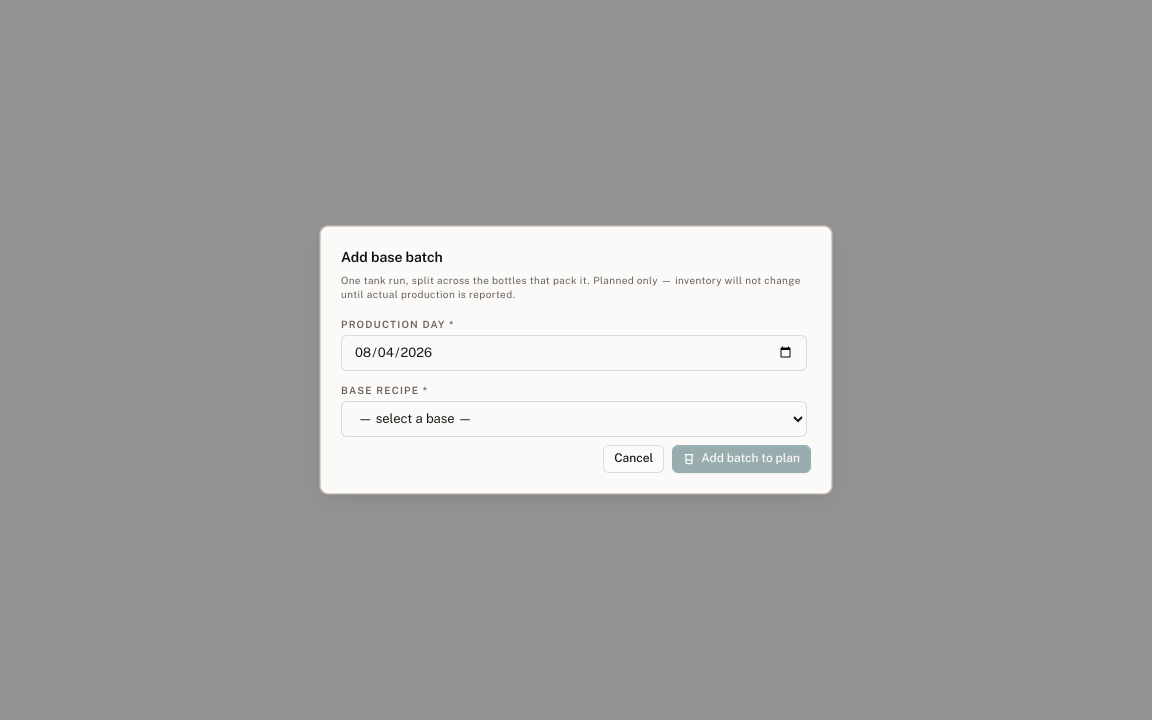
Test case: AddBatchModal › A2 — picking a base prefills tank size and lists member split lines
Step 1. Select "CALM" in the dropdown with test id "add-batch-base" → (574, 419), box [341,401,807,437]
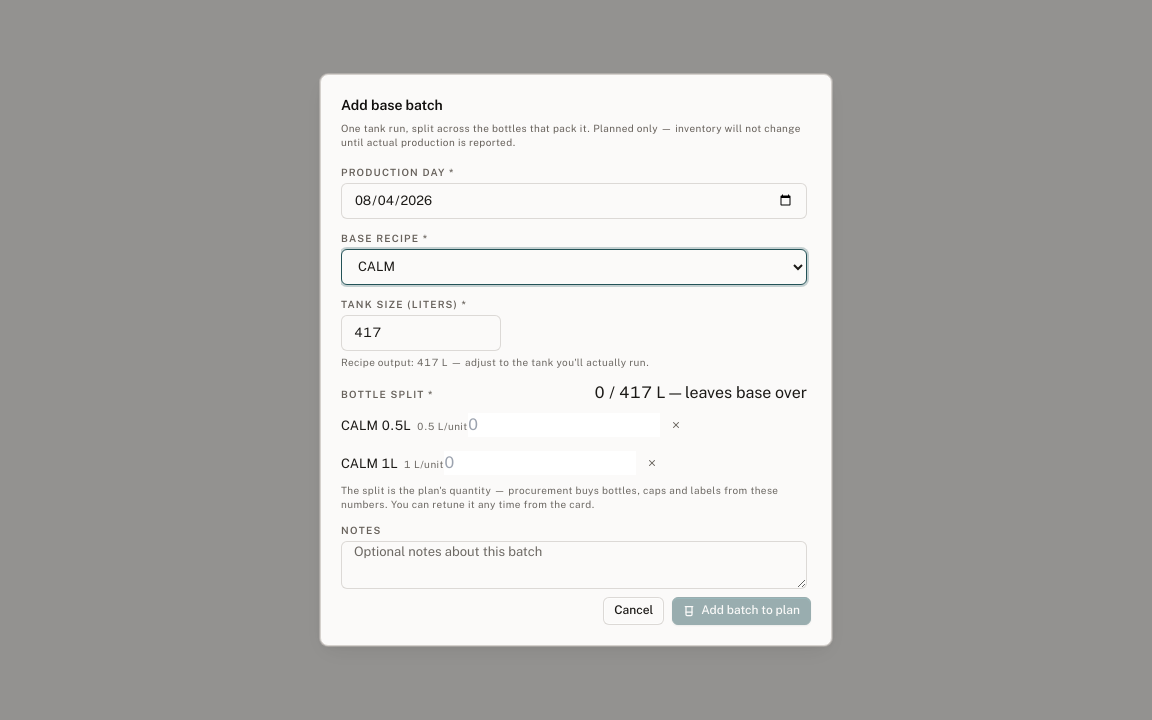
Expected: the number field with test id "add-batch-size" holds "417", [341,315,501,351]
Expected: the number field with test id "add-batch-qty-FG-CAL-1L" is shown, [444,451,636,475]
Expected: the number field with test id "add-batch-qty-FG-CAL-500ML" is shown, [468,413,660,437]
